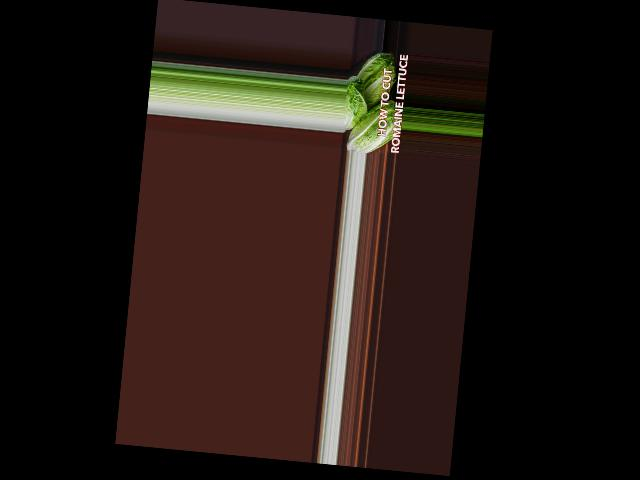lettuce: (350, 47, 403, 116)
